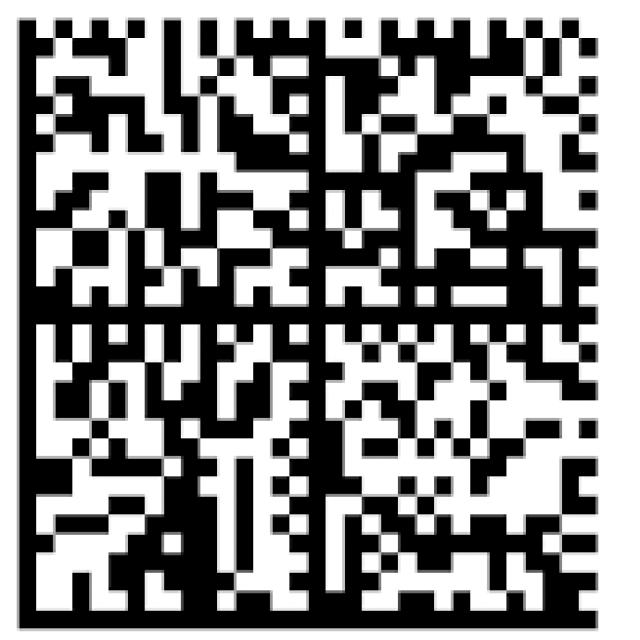datamatrix: (11, 9, 610, 640)
